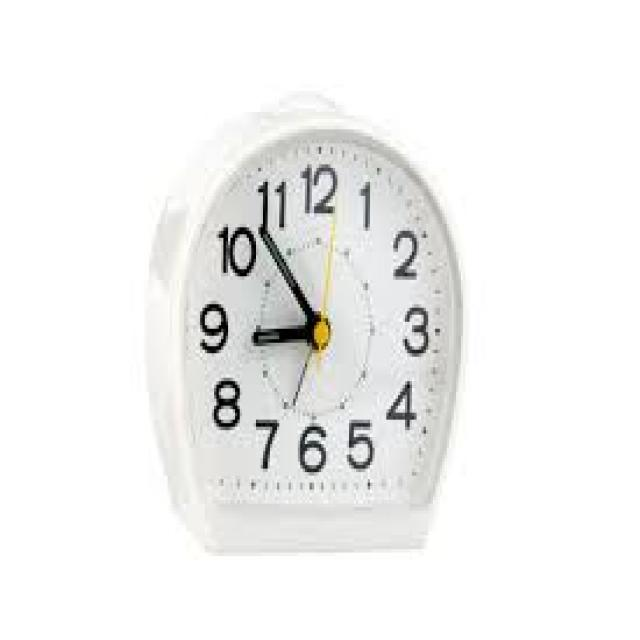Clocks-images: (153, 104, 455, 543)
